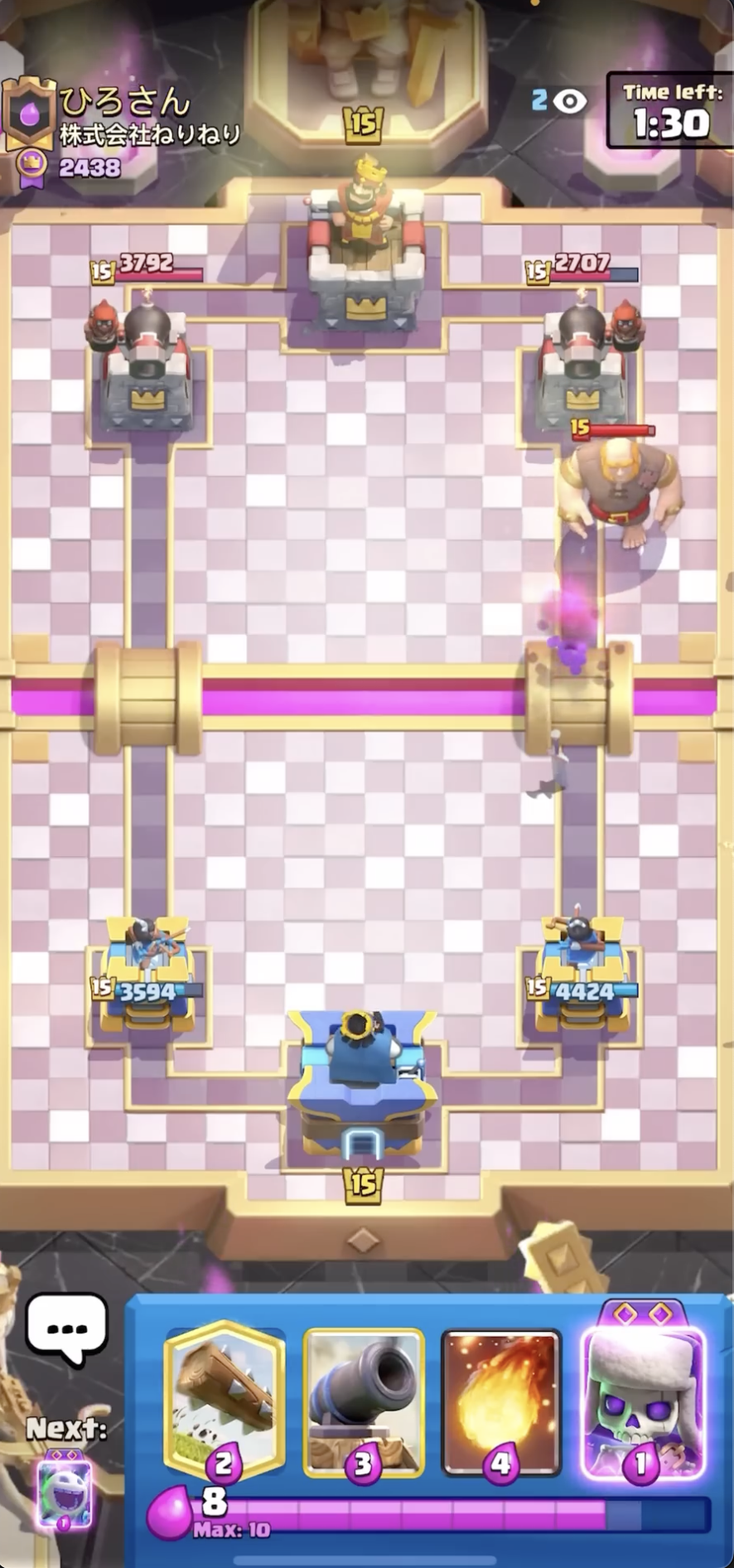giant: (545, 410, 696, 548)
